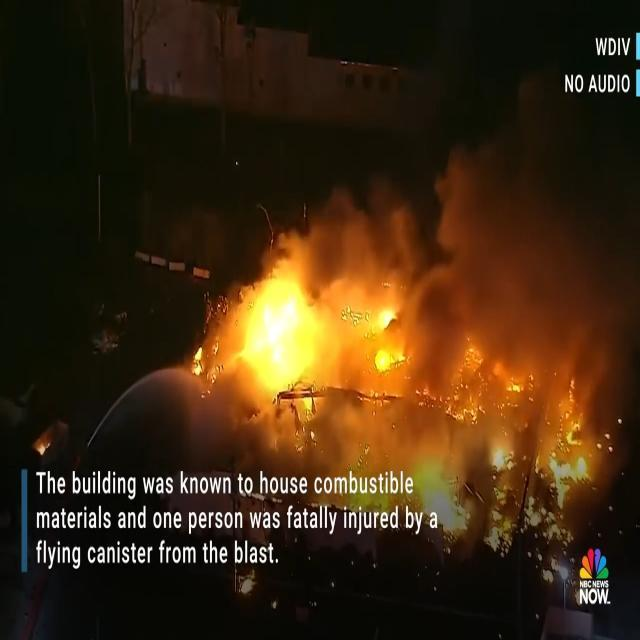fire: (451, 339, 596, 489), (333, 282, 436, 397), (235, 282, 327, 399), (290, 405, 450, 468), (426, 476, 516, 541), (27, 418, 70, 458)
